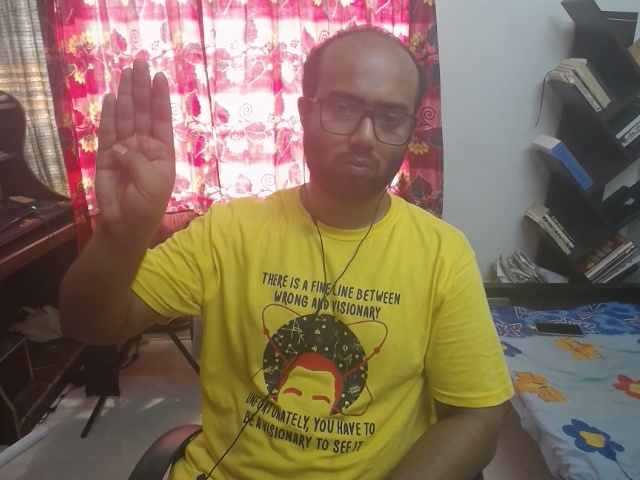counting: (75, 46, 209, 257)
